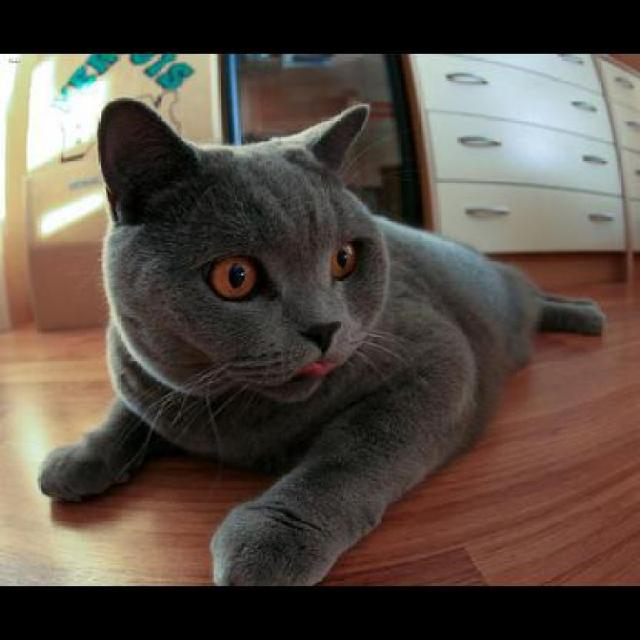unauthorized: (37, 96, 606, 586)
